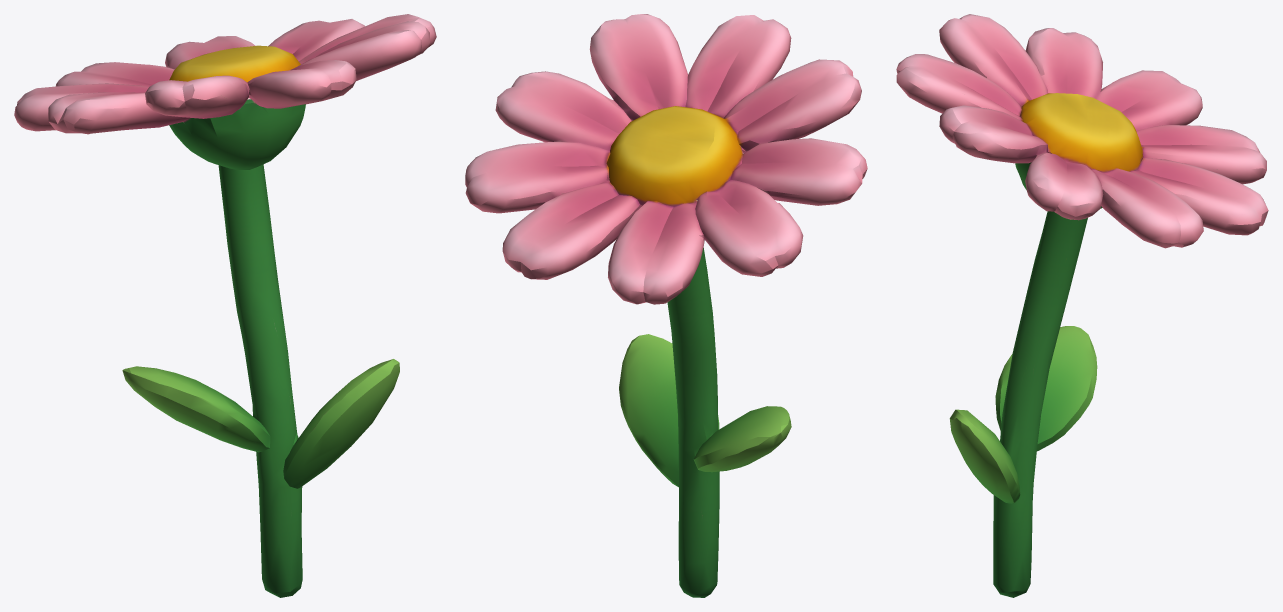
The model's file is Flower.glb.
3 renders of one model, left to right at view 1: azimuth 30°, elevation 25°; view 2: azimuth 150°, elevation 25°; view 3: azimuth 270°, elevation 25°, orthographic. The views are drawn at different scales.
Visible parts, largest first — view 1: geometry_0; view 2: geometry_0; view 3: geometry_0.
Part boxes in pixels (box(x1,y1,x2,y2)): geometry_0: box(14, 14, 436, 597); geometry_0: box(465, 14, 867, 597); geometry_0: box(896, 14, 1268, 597).
Bounding box in the file's own units: 0.0967 × 0.14 × 0.0895.
Materials: 1 (1 with a texture image).
